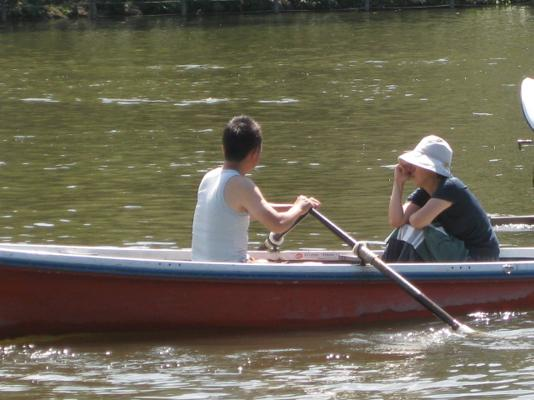person: (192, 116, 323, 263)
